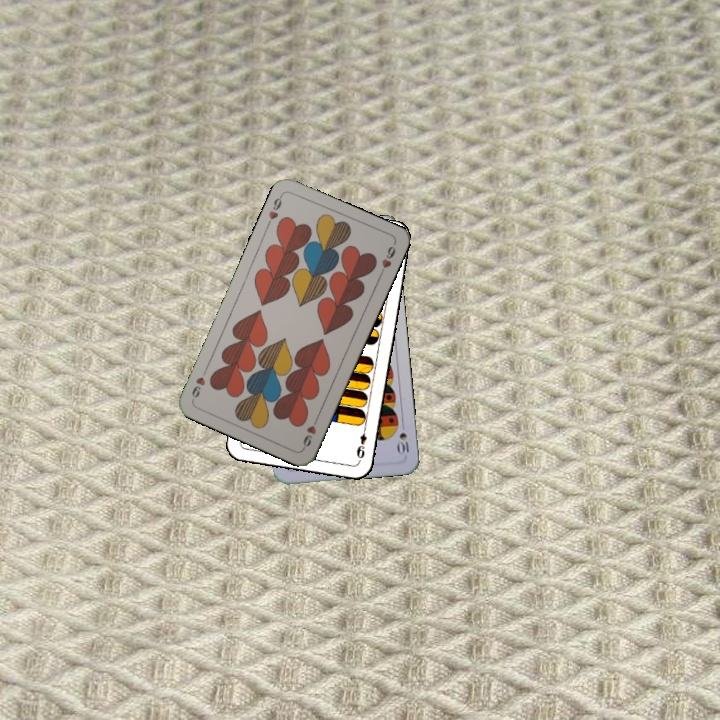E9: (352, 422, 369, 461)
H9: (299, 412, 321, 451), (264, 190, 285, 222)
S10: (394, 429, 411, 458)
